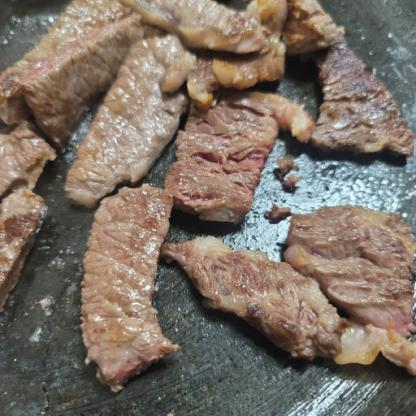Carne: (156, 223, 354, 363), (74, 174, 173, 388), (292, 194, 415, 352), (0, 0, 127, 149), (74, 32, 186, 198), (295, 37, 415, 162), (164, 91, 278, 221), (122, 0, 271, 62), (0, 182, 51, 326), (0, 122, 54, 176)
